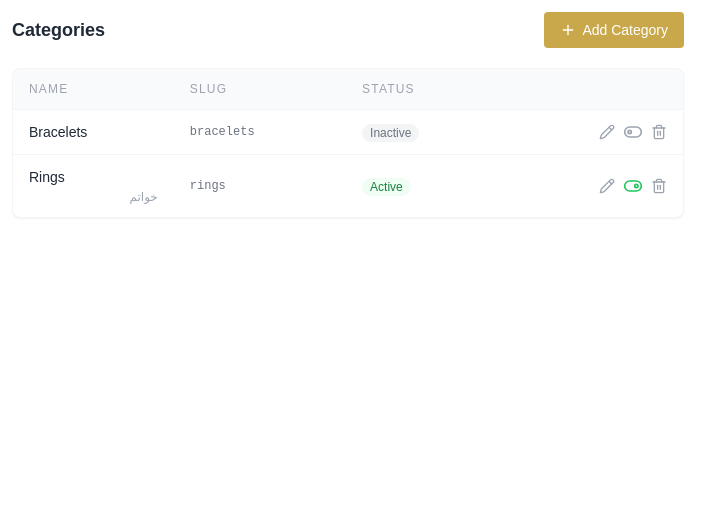
Scenario: categories labels (NEX-64) › every field in the category form is reachable by its label
Click the button "Add Category" at [614, 30], box x1=544 y1=12 x2=684 y2=48
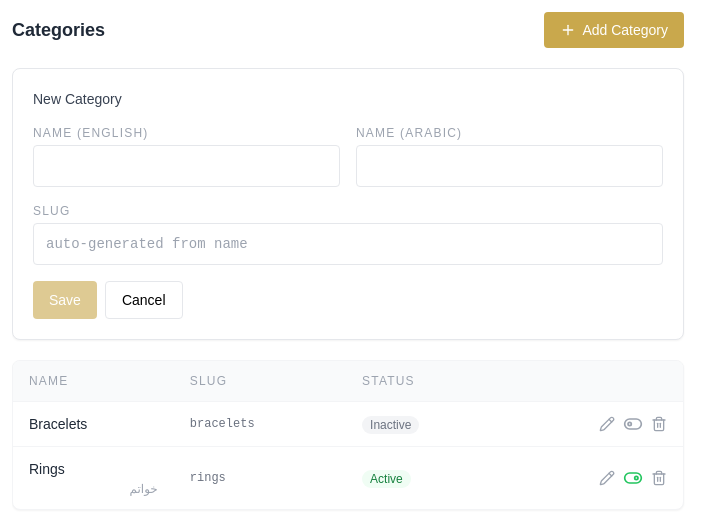
Now the label "Name (English)" is shown, box x1=33 y1=125 x2=340 y2=187
Now the label "Name (Arabic)" is shown, box x1=356 y1=125 x2=663 y2=187
Now the label "Slug" is shown, box x1=33 y1=203 x2=663 y2=265
